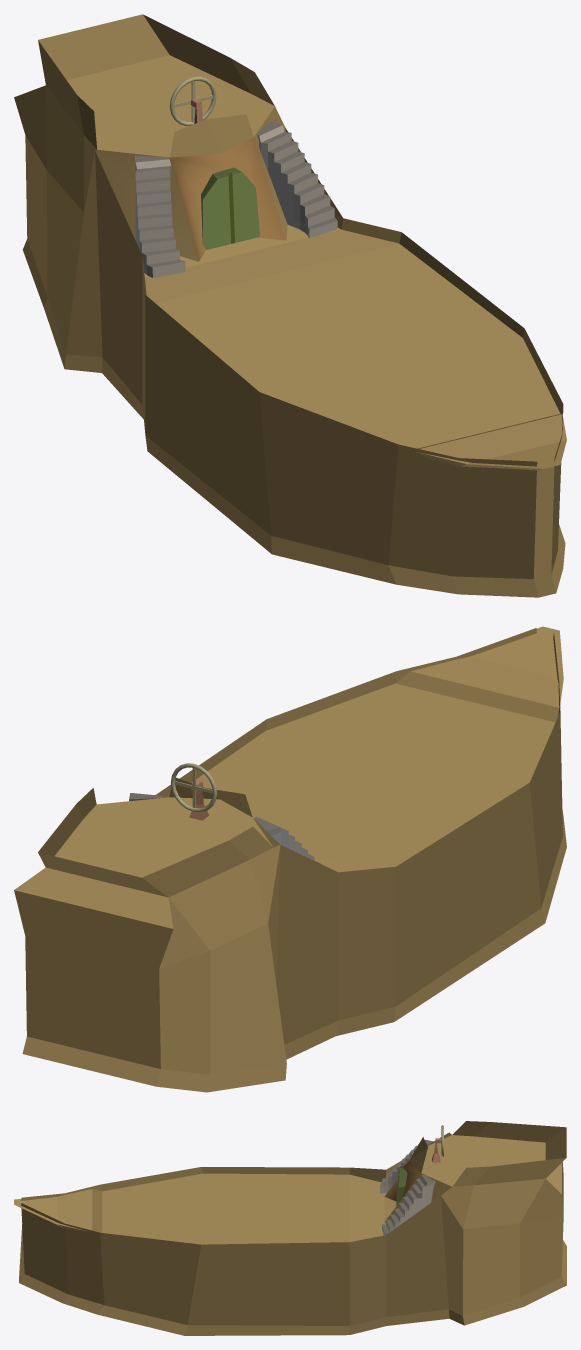
Rendered from fixed_ship_3D_BG_.fbx.
3 renders of one model, top to bottom at view 1: azimuth 30°, elevation 25°; view 2: azimuth 150°, elevation 25°; view 3: azimuth 270°, elevation 25°, orthographic. The views are drawn at different scales.
Visible parts, largest first — view 1: Ship_body, Right_Stairs, Left_Stairs, Wheel; view 2: Ship_body, Wheel, Left_Stairs; view 3: Ship_body, Right_Stairs, Left_Stairs.
Part boxes in pixels (x1,y1,x2,y2): Ship_body: (14,14,566,597); Right_Stairs: (256,121,337,238); Left_Stairs: (134,155,185,277); Wheel: (169,76,216,126); Ship_body: (14,626,566,1092); Wheel: (170,763,216,812); Left_Stairs: (254,816,320,863); Ship_body: (14,1121,566,1335); Right_Stairs: (382,1175,435,1235); Left_Stairs: (380,1139,433,1193).
Bounding box in the file's own units: 22.16 × 22.51 × 65.9.
